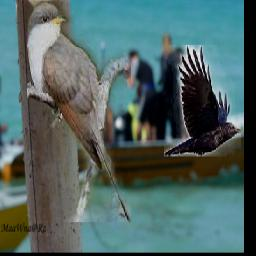Crow: (165, 45, 242, 156)
Cuckoo: (27, 1, 131, 222)
